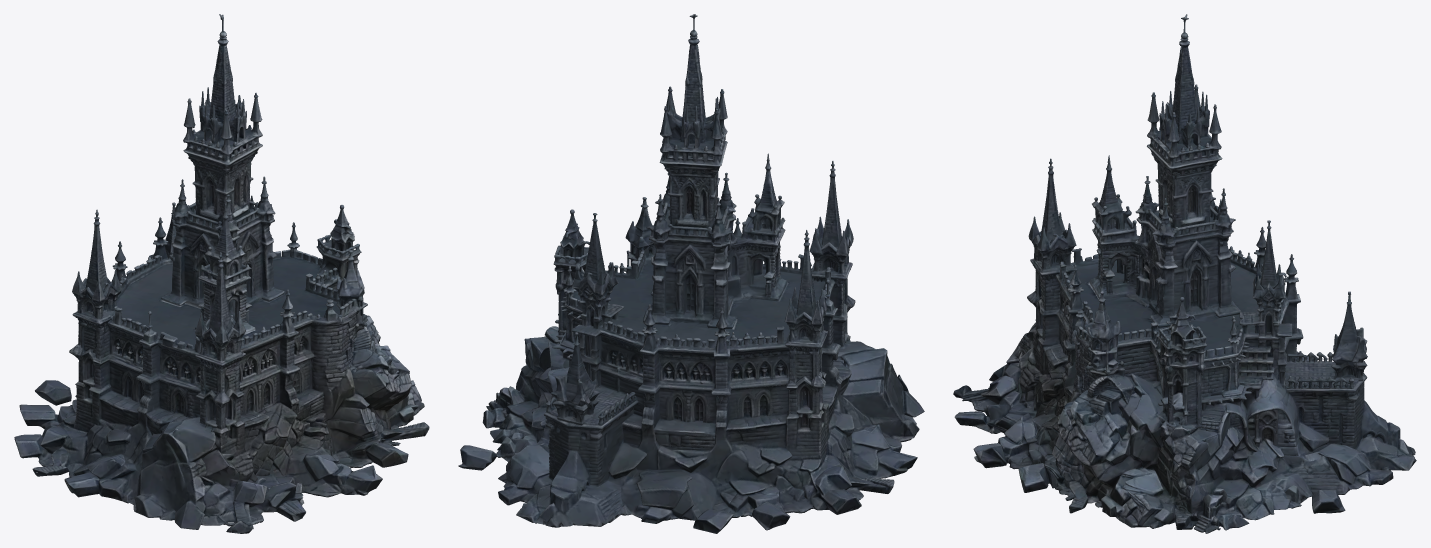
Rendered from castle-transylvania.glb.
3 views of the same model, side by side, from view 1: azimuth 30°, elevation 25°; view 2: azimuth 150°, elevation 25°; view 3: azimuth 270°, elevation 25° (orthographic). The views are drawn at different scales.
Parts seen in each view (by area): view 1: tripo_node_100f09e7-e105-4dcf-845c-95eebe4a9e37; view 2: tripo_node_100f09e7-e105-4dcf-845c-95eebe4a9e37; view 3: tripo_node_100f09e7-e105-4dcf-845c-95eebe4a9e37.
Boxes of the visible parts, box(x1,y1,x2,y2) form: tripo_node_100f09e7-e105-4dcf-845c-95eebe4a9e37: box(14, 14, 429, 533); tripo_node_100f09e7-e105-4dcf-845c-95eebe4a9e37: box(458, 14, 924, 533); tripo_node_100f09e7-e105-4dcf-845c-95eebe4a9e37: box(953, 14, 1416, 533).
Size of the model in its own units: 1.93 by 2.03 by 2.
1 material, 1 textured.
